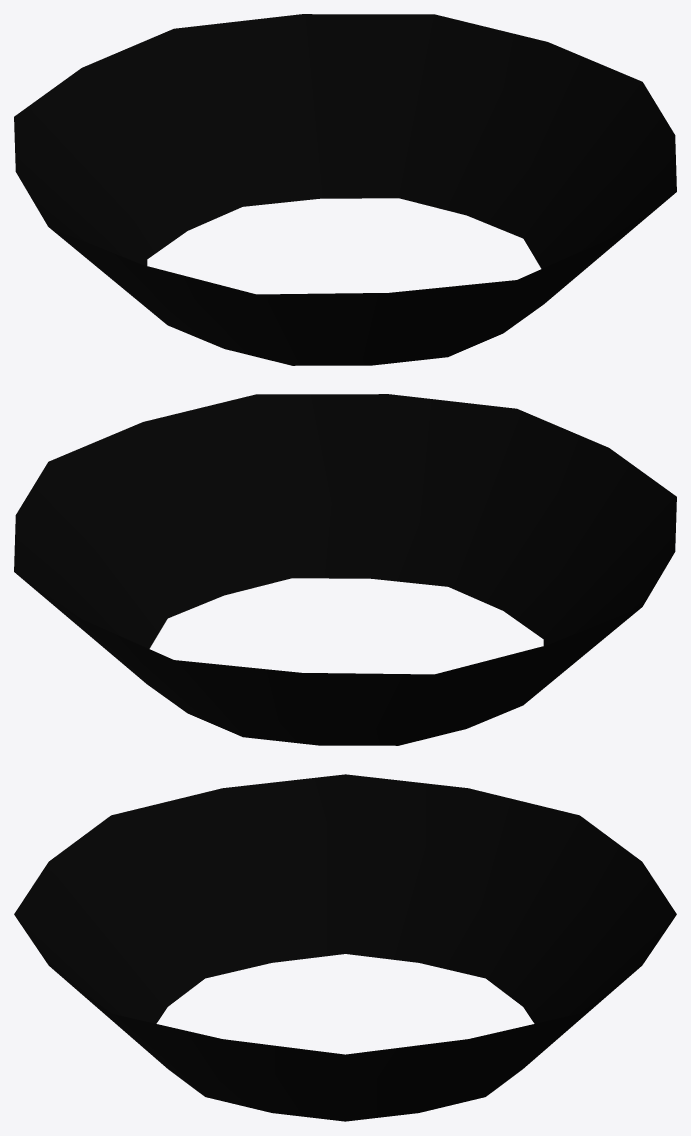
The picture shows the model from 3 angles, top to bottom: view 1: azimuth 30°, elevation 25°; view 2: azimuth 150°, elevation 25°; view 3: azimuth 270°, elevation 25°; orthographic projection. The views are drawn at different scales.
Visible parts, largest first — view 1: T1L6M006_36; view 2: T1L6M006_36; view 3: T1L6M006_36.
Part boxes in pixels (x1,y1,x2,y2): T1L6M006_36: (14, 14, 676, 365); T1L6M006_36: (14, 394, 676, 745); T1L6M006_36: (14, 774, 676, 1121).
Size of the model in its own units: 2.87 by 0.5947 by 2.87.
